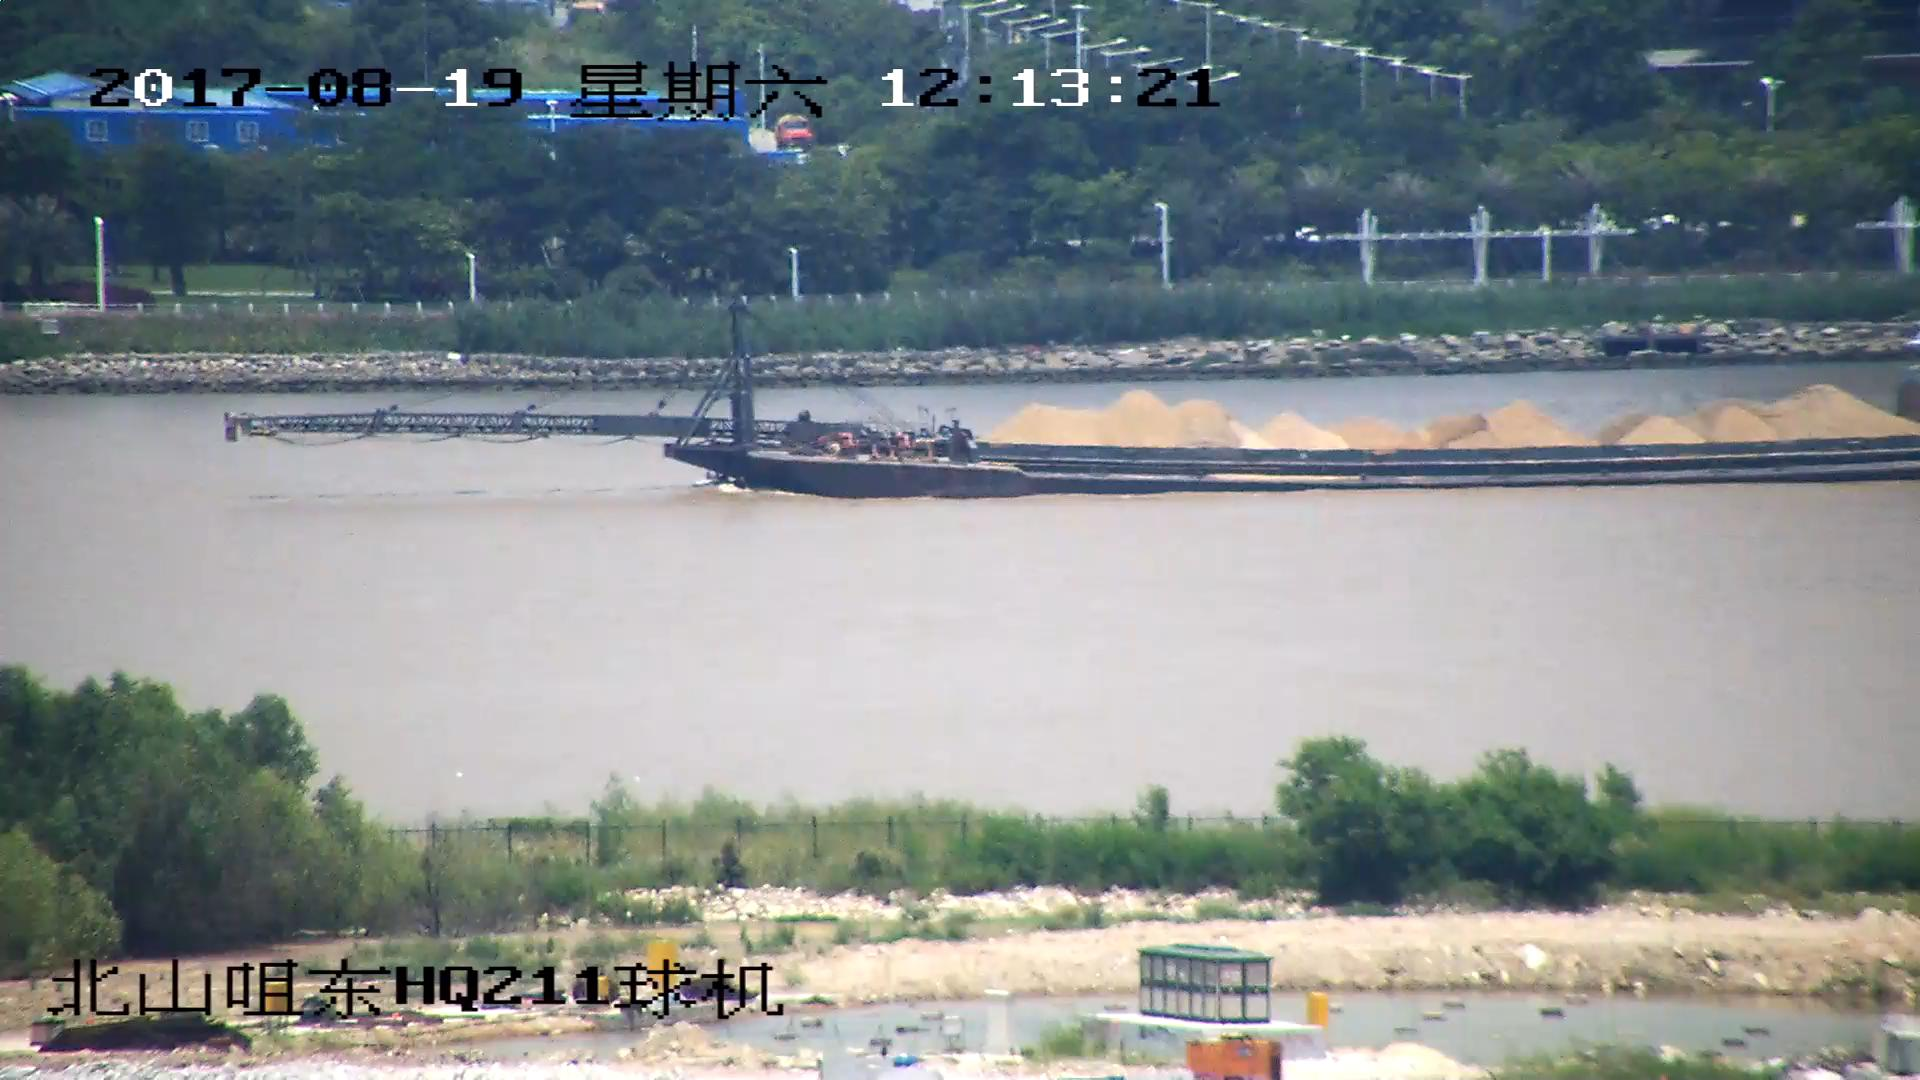ore carrier: (221, 307, 1920, 500)
